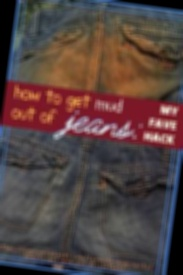earth: (45, 38, 152, 96)
